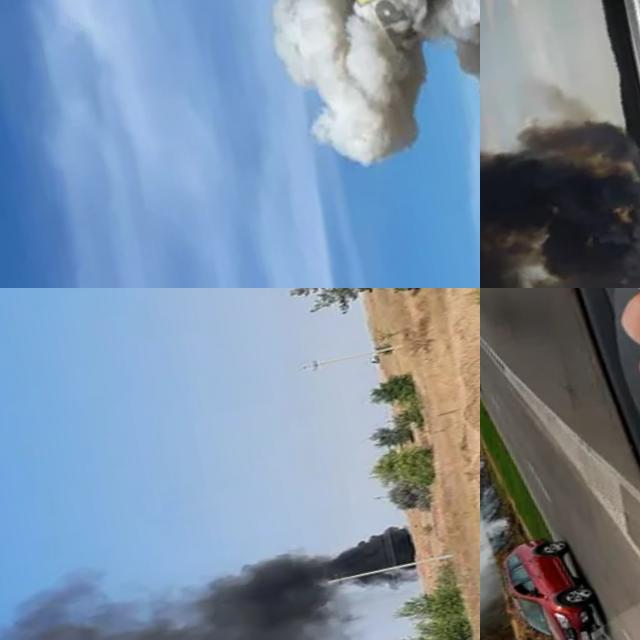smoke: (0, 521, 447, 640), (241, 0, 480, 178), (480, 104, 640, 288), (480, 505, 540, 640)
